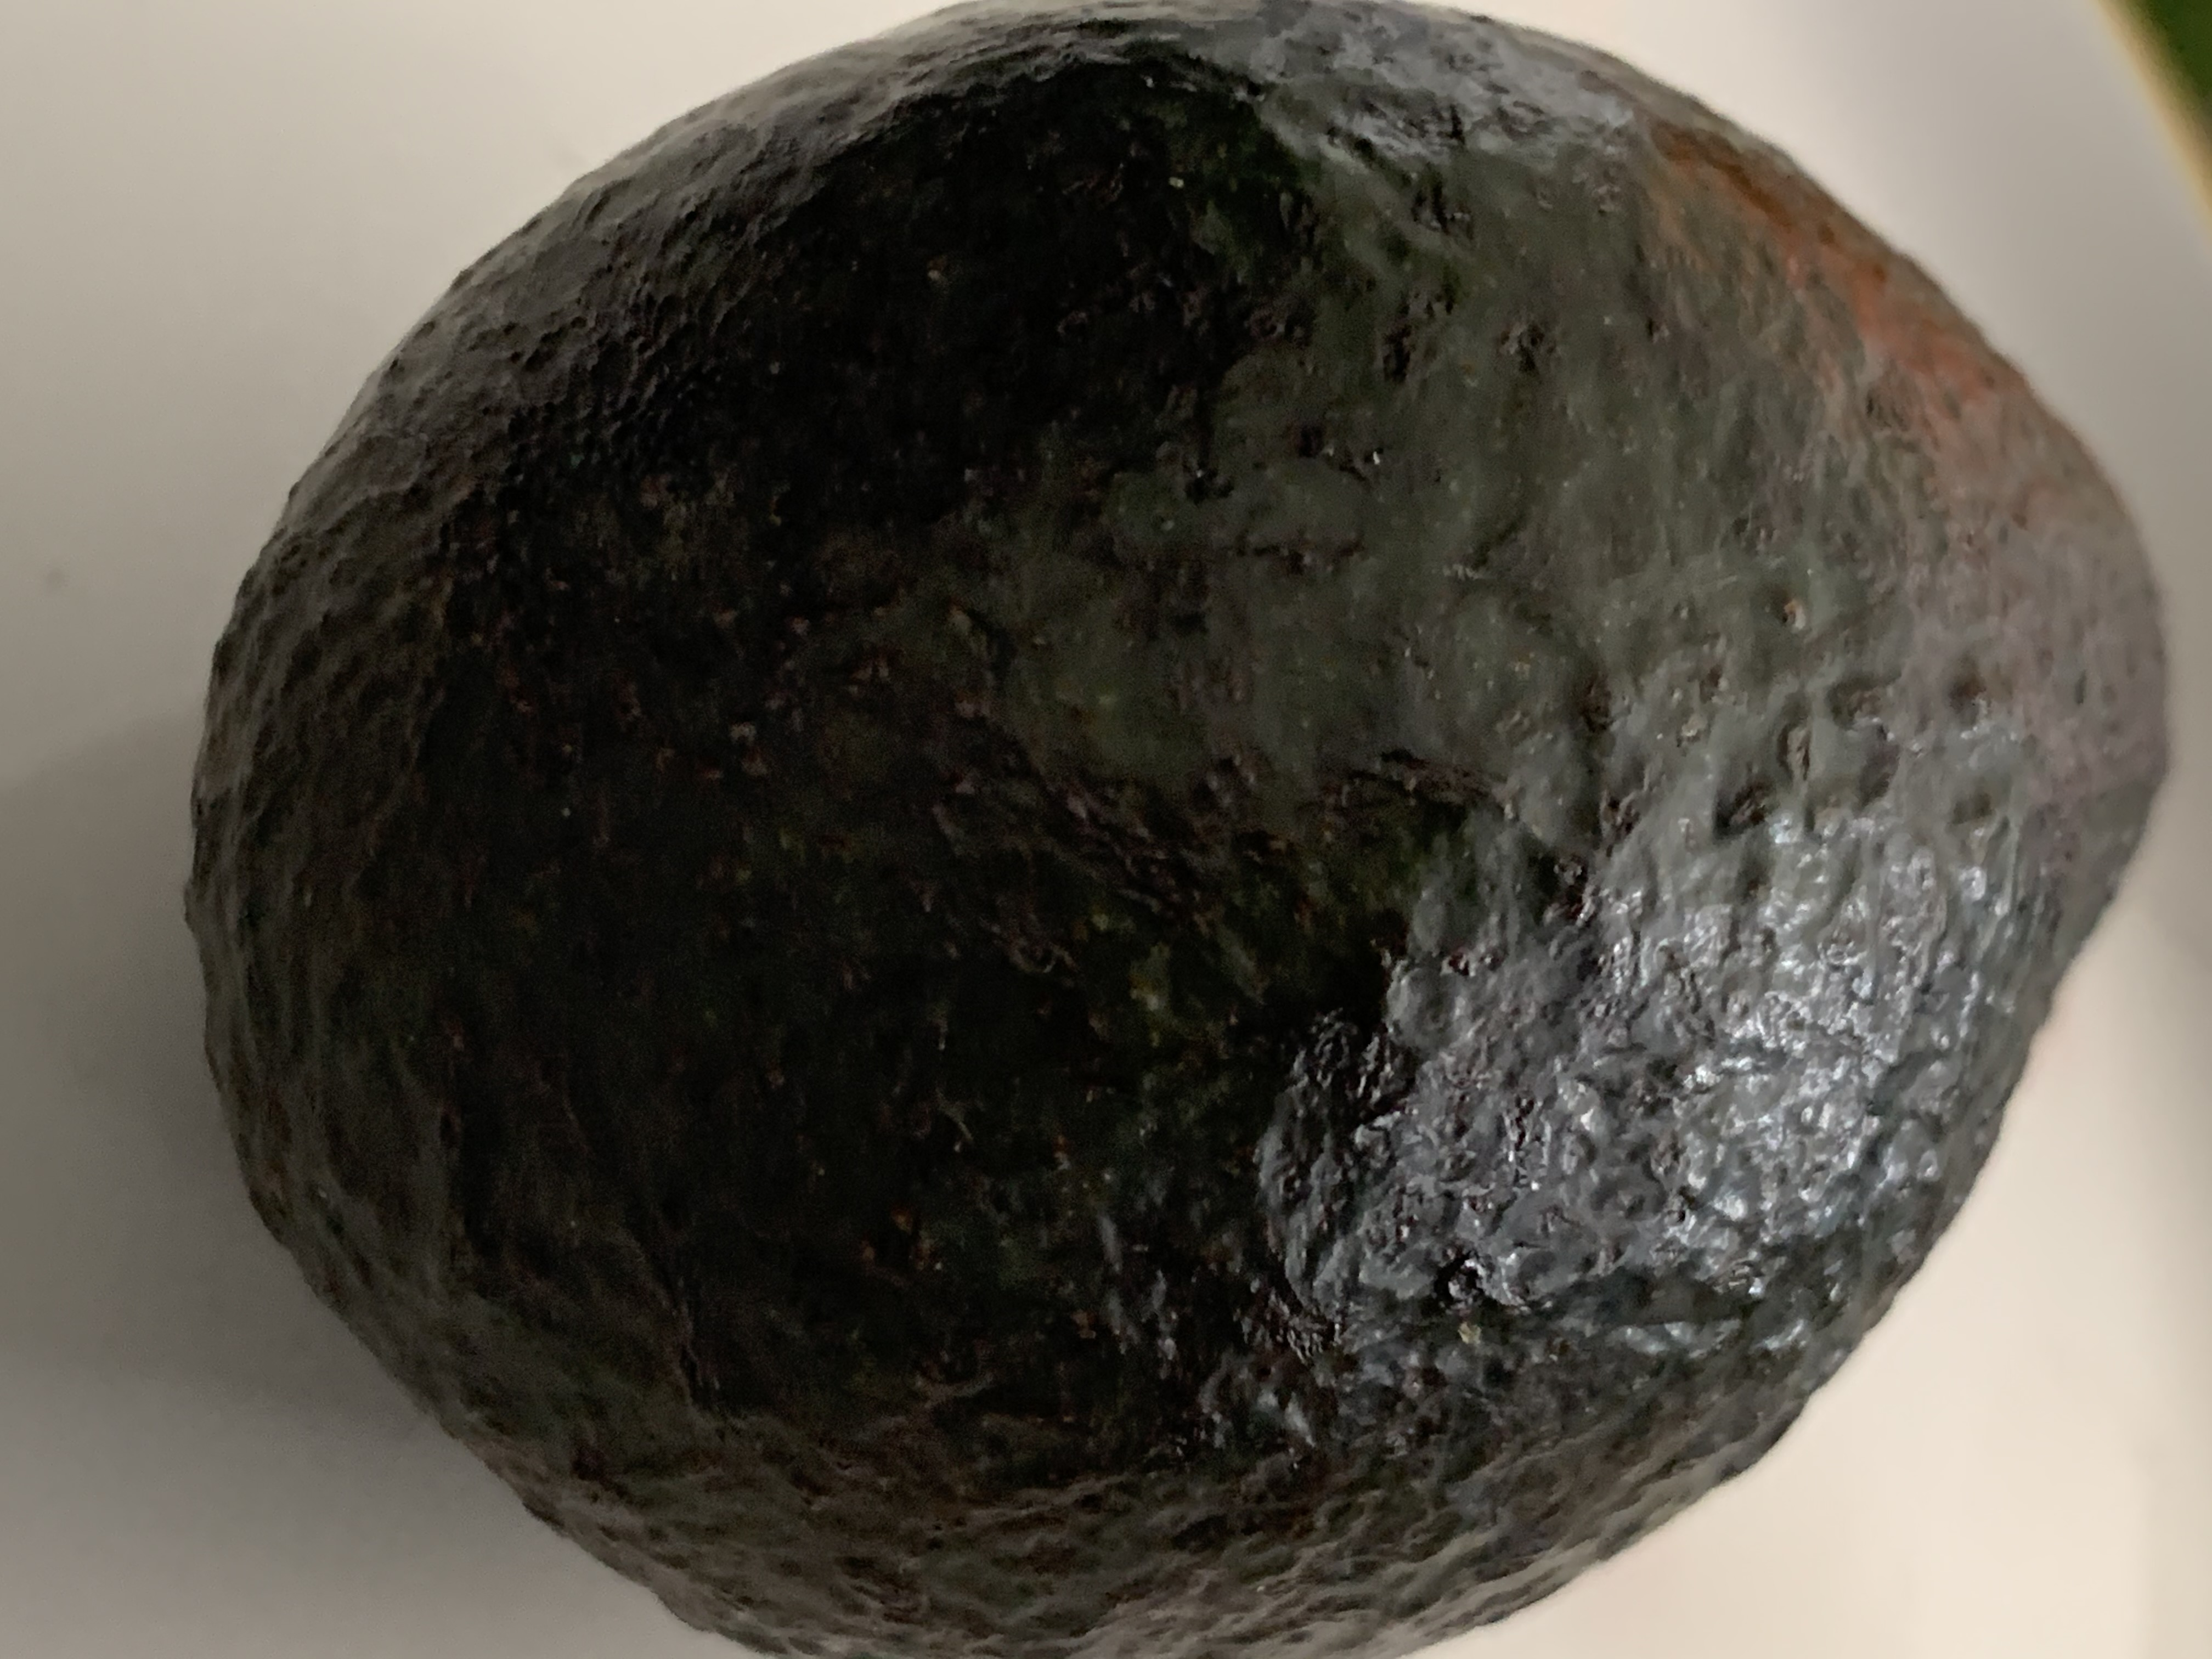avocado: (179, 14, 2193, 1659)
